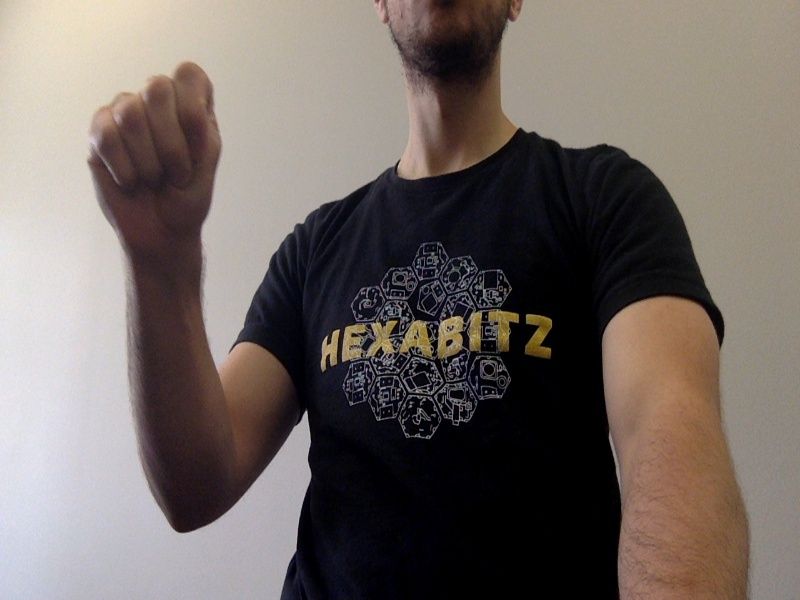0-hand: (89, 64, 221, 245)
